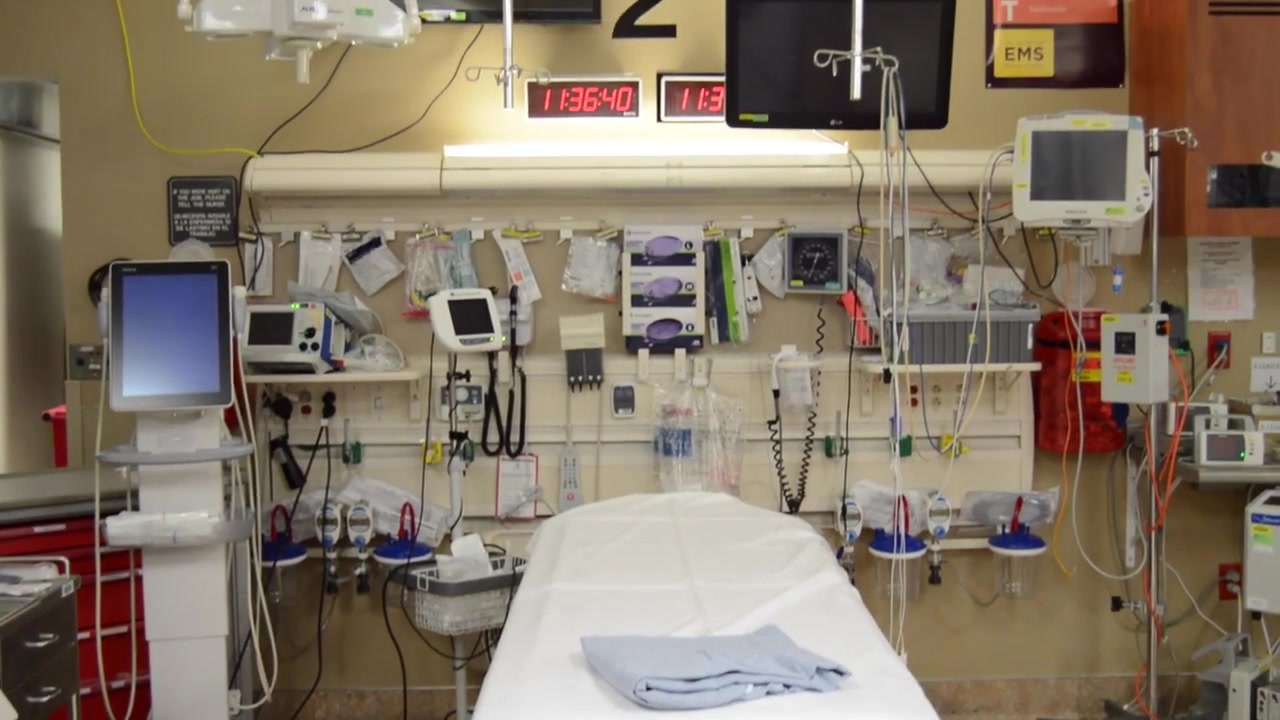bedside_monitor: (719, 1, 963, 130), (105, 259, 235, 412), (1014, 115, 1151, 227)
cabinet: (1126, 1, 1279, 240)
dispenser: (622, 224, 706, 350)
handle: (22, 684, 68, 704), (20, 631, 64, 650)
hospital_bed: (468, 491, 943, 720)
iv_pole: (1141, 122, 1201, 720), (465, 1, 550, 112), (810, 1, 900, 96)
medical_drawer: (1, 468, 148, 720)
utility_cart: (1, 543, 84, 720)
